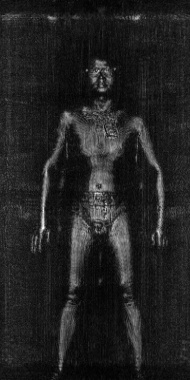gun: (80, 100, 122, 142)
